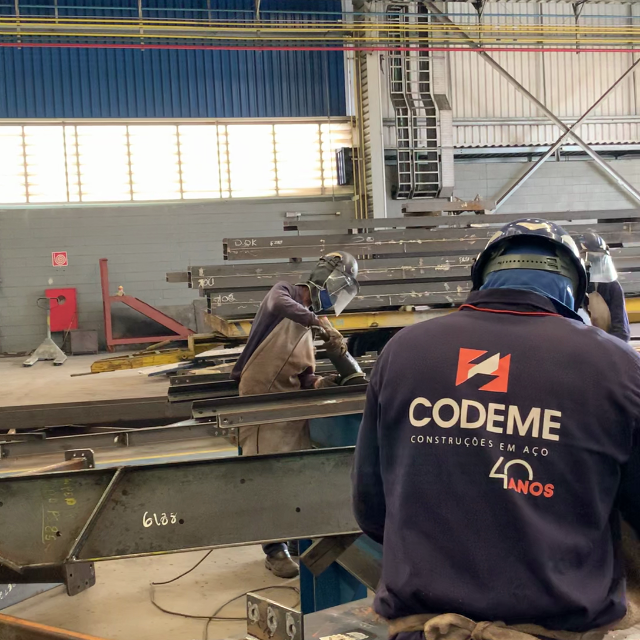face-shield: (324, 264, 359, 316)
glove: (313, 318, 346, 356)
helmet: (473, 221, 589, 310), (322, 250, 362, 287)
person: (353, 218, 640, 628), (229, 249, 360, 384)
safety-shoe: (263, 554, 300, 581)
